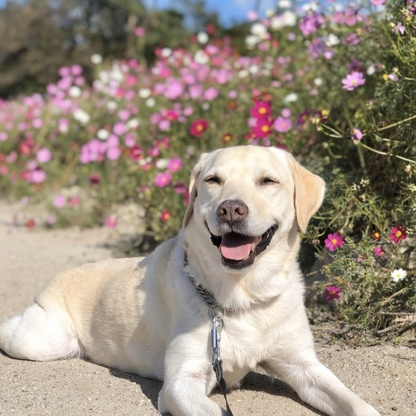labrado: (1, 137, 386, 416)
